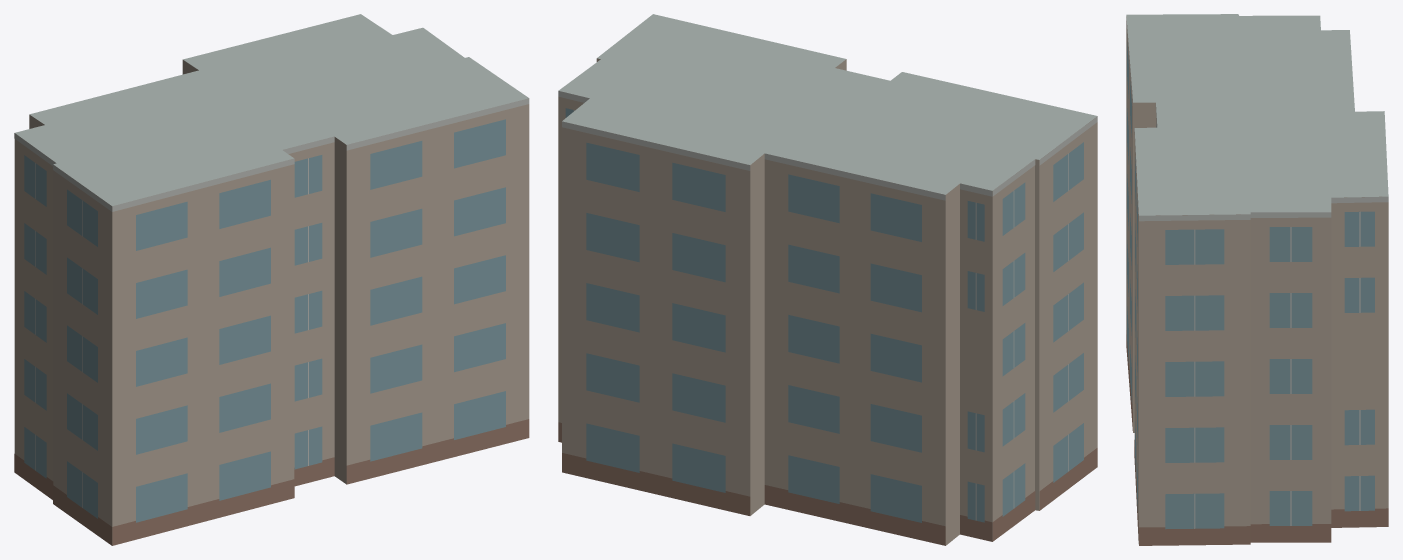
Rendered from survey-upis-32611209.glb.
3 renders of one model, left to right at view 1: azimuth 30°, elevation 25°; view 2: azimuth 150°, elevation 25°; view 3: azimuth 270°, elevation 25°, orthographic. The views are drawn at different scales.
Visible parts, largest first — view 1: survey-upis-32611209.tmp; view 2: survey-upis-32611209.tmp; view 3: survey-upis-32611209.tmp.
Boxes of the visible parts, bbox=[...] form: survey-upis-32611209.tmp: bbox=[14, 14, 529, 545]; survey-upis-32611209.tmp: bbox=[558, 14, 1097, 545]; survey-upis-32611209.tmp: bbox=[1126, 14, 1388, 545].
Size of the model in its own units: 19 by 14.5 by 10.45.
